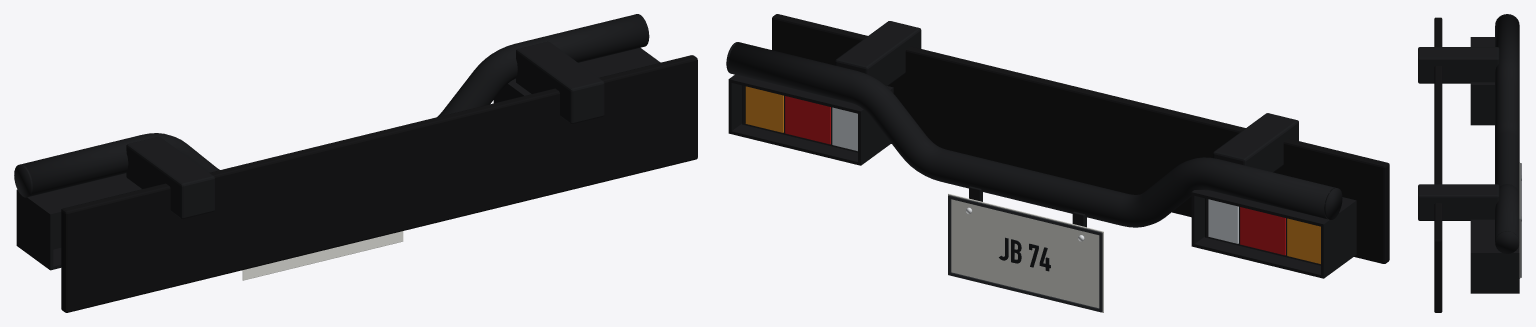
Rendered from rearBumper_beyond_rear.glb.
3 renders of one model, left to right at view 1: azimuth 30°, elevation 25°; view 2: azimuth 150°, elevation 25°; view 3: azimuth 270°, elevation 25°, orthographic. The views are drawn at different scales.
Visible parts, largest first — view 1: valance.027, bar.006, mount-1.026, mount1.026, lampBox-1Wall3.001, lampBox-1Wall0.001, plate.033, lampBox1Wall0.001, cap-1.005; view 2: valance.027, bar.006, plate.033, mount1.026, mount-1.026, lampBox-1Wall3.001, lampSeg-11.002, lampSeg11.002, lampBox1Wall2.001, lampBox-1Wall2.001, lampSeg12.002, lampBox-1Wall0.001 (+13 smaller); view 3: bar.006, mount-1.026, mount1.026, valance.027, lampBox1Wall1.001, lampBox1Wall0.001, lampBox-1Wall1.001, cap1.033, lampBox-1Wall0.001, plate.033, lampBox1Wall2.001, plateRim31_3 (+2 smaller).
Part boxes in pixels (x1,y1,x2,y2): valance.027: [61, 55, 697, 312]; bar.006: [21, 14, 647, 196]; mount-1.026: [126, 136, 214, 219]; mount1.026: [516, 41, 604, 124]; lampBox-1Wall3.001: [16, 189, 53, 270]; lampBox-1Wall0.001: [16, 173, 141, 216]; plate.033: [242, 231, 403, 280]; lampBox1Wall0.001: [510, 48, 657, 94]; cap-1.005: [14, 164, 32, 197]; valance.027: [772, 14, 1389, 263]; bar.006: [728, 42, 1335, 227]; plate.033: [948, 193, 1103, 312]; mount1.026: [835, 21, 921, 85]; mount-1.026: [1213, 113, 1298, 172]; lampBox-1Wall3.001: [1321, 200, 1356, 278]; lampSeg-11.002: [1240, 207, 1285, 255]; lampSeg11.002: [785, 96, 830, 144]; lampBox1Wall2.001: [728, 124, 890, 164]; lampBox-1Wall2.001: [1191, 237, 1334, 278]; lampSeg12.002: [745, 86, 783, 132]; lampBox-1Wall0.001: [1192, 190, 1353, 226]; bar.006: [1495, 14, 1519, 241]; mount-1.026: [1418, 47, 1499, 83]; mount1.026: [1418, 184, 1499, 220]; valance.027: [1434, 17, 1442, 312]; lampBox1Wall1.001: [1470, 252, 1519, 291]; lampBox1Wall0.001: [1470, 219, 1519, 255]; lampBox-1Wall1.001: [1470, 84, 1494, 123]; cap1.033: [1495, 231, 1519, 253]; lampBox-1Wall0.001: [1470, 38, 1494, 87]; plate.033: [1519, 162, 1520, 278]; lampBox1Wall2.001: [1470, 291, 1519, 293]; plateRim31_3: [1520, 219, 1521, 277].
Bounding box in the file's own units: 1.3 × 0.3525 × 0.256.
